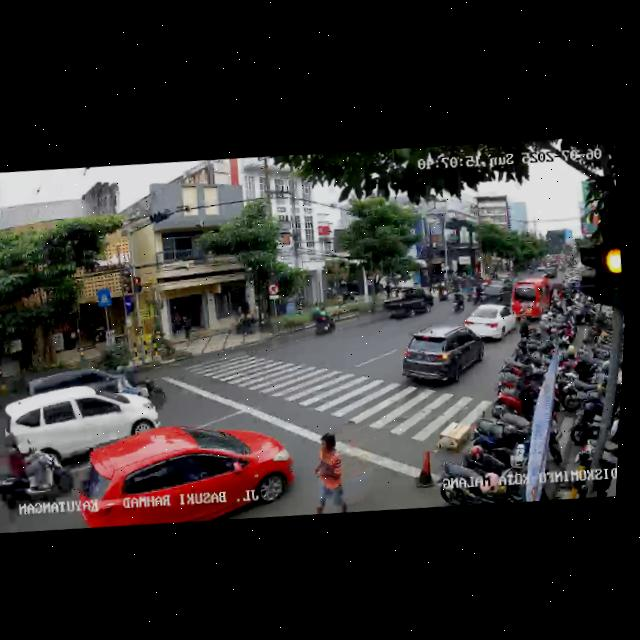car: (69, 408, 302, 537), (0, 373, 165, 471), (394, 320, 488, 393), (23, 355, 140, 410), (461, 300, 520, 346), (509, 274, 560, 323), (379, 284, 433, 325), (478, 283, 511, 310)
motorcycle: (0, 431, 80, 522), (305, 426, 354, 513), (307, 303, 339, 339), (448, 288, 466, 314)
